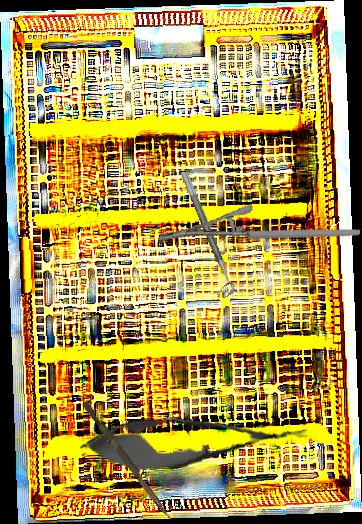Fixation Ring: (169, 170, 238, 300)
Micro Scissor: (78, 405, 311, 476)
Needle Holder: (158, 170, 361, 301)
Pusher: (79, 401, 177, 521)
